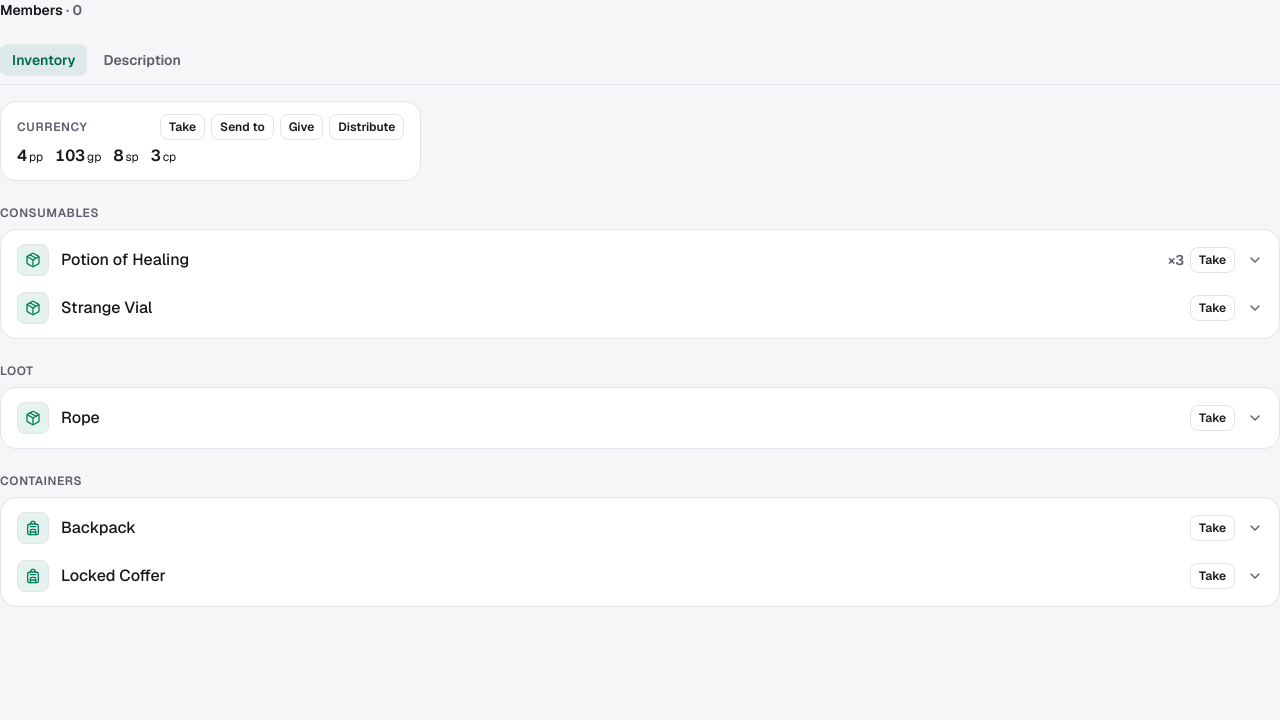
Test case: components/transfers/party-controls › the Currency row › waits, each of them, while a coins move of the sheet’s is on its way
Step 1. Click the button "Give" → (301, 127), box [280, 114, 323, 140]
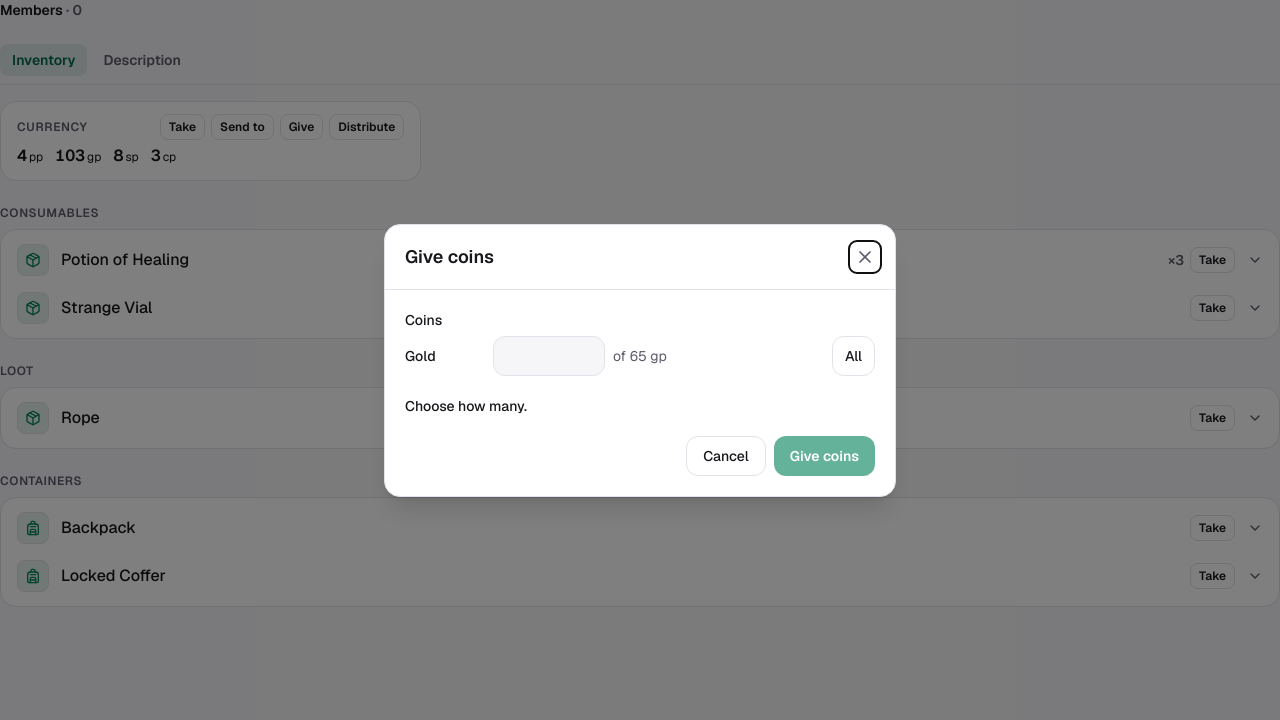
Step 2. Type "5" into the field labelled "Gold" → (549, 356), box [493, 336, 605, 376]
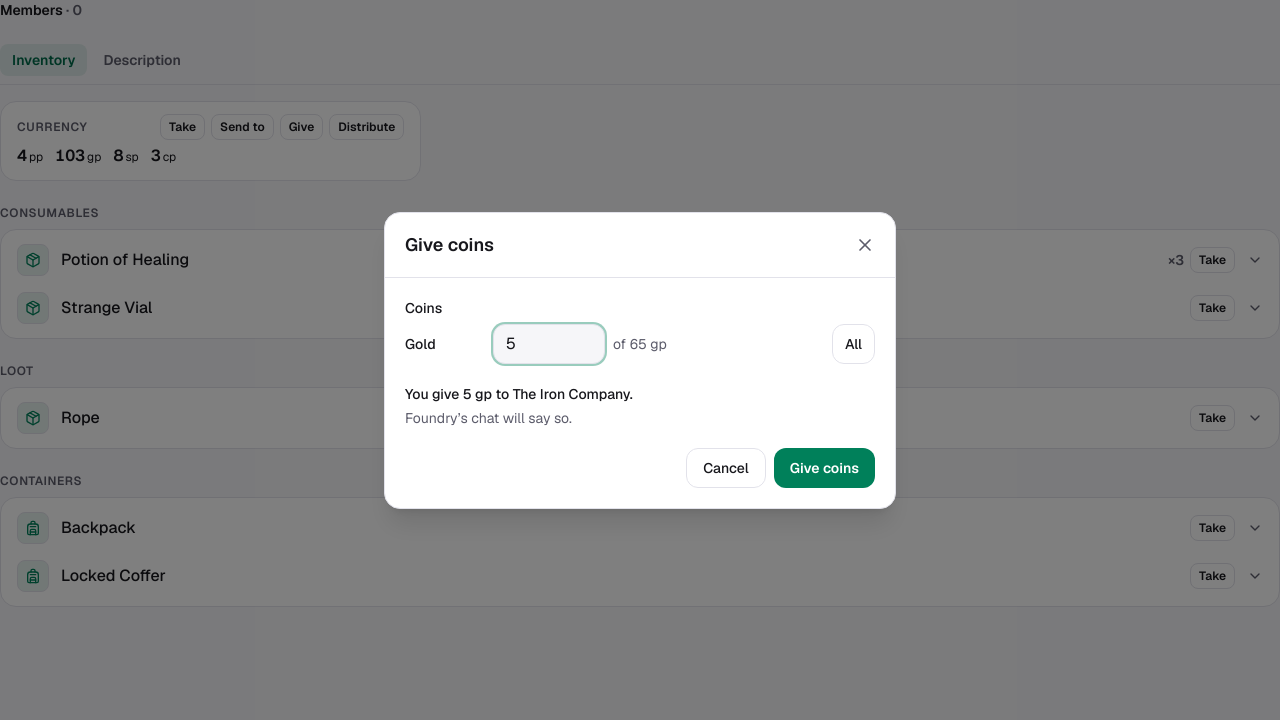
Step 3. Click the button "Give coins" → (824, 468), box [774, 448, 875, 488]
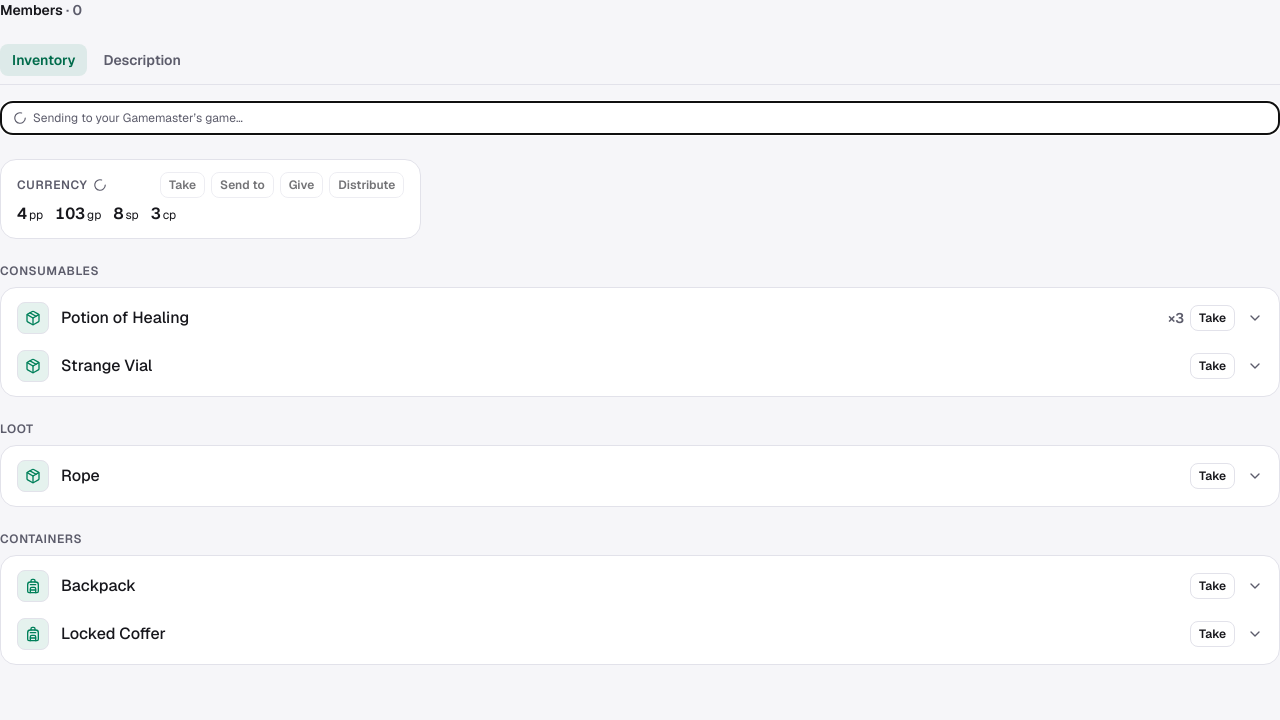
Now the button "Take" next to "Currency" is disabled, box [160, 172, 205, 198]
Now the button "Send to" is disabled, box [211, 172, 274, 198]
Now the button "Give" is disabled, box [280, 172, 323, 198]
